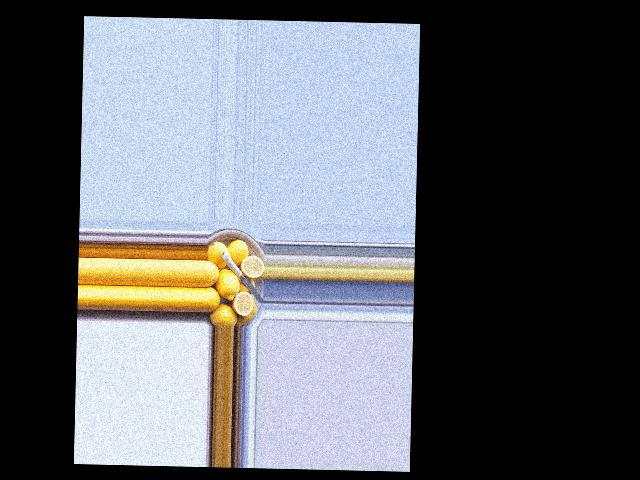lemon: (209, 302, 240, 326)
